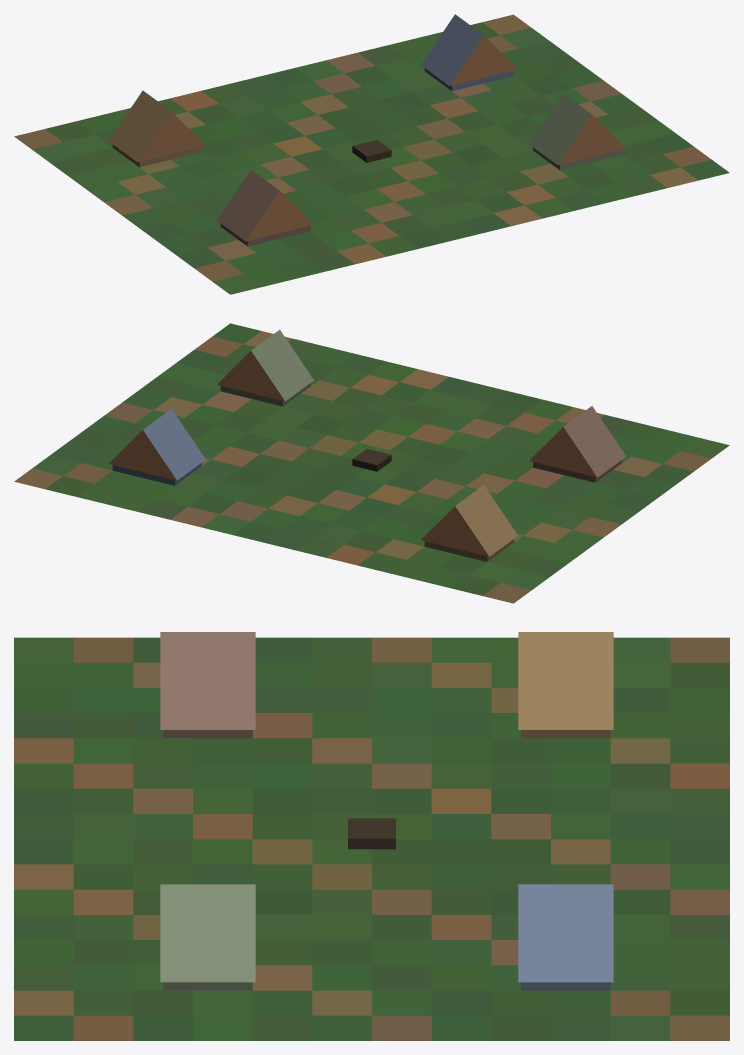
3 renders of one model, top to bottom at view 1: azimuth 30°, elevation 25°; view 2: azimuth 150°, elevation 25°; view 3: azimuth 270°, elevation 25°, orthographic. The views are drawn at different scales.
Visible parts, largest first — view 1: scenery; view 2: scenery; view 3: scenery.
Boxes of the visible parts, left/top/right/bottom form: scenery: left=14, top=14, right=729, bottom=294; scenery: left=14, top=323, right=729, bottom=603; scenery: left=14, top=632, right=729, bottom=1040.
Bounding box in the file's own units: 16 × 1.5 × 12.
